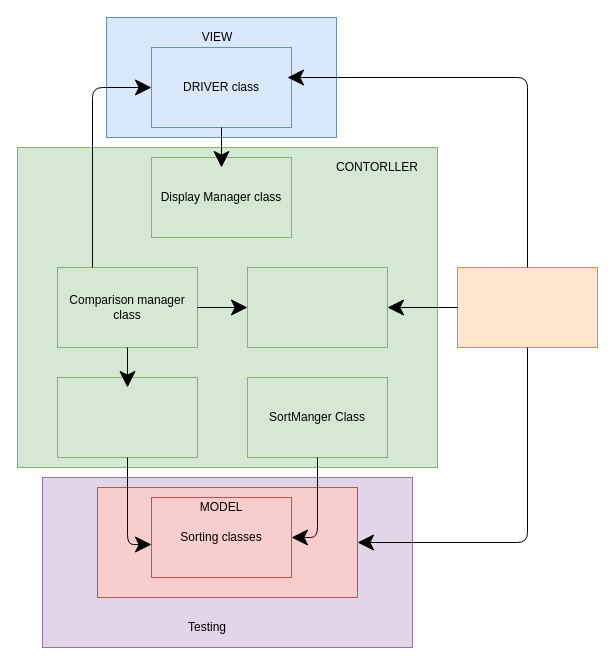
Some shapes in this 615 by 665 pixel diagram are drawn without their labels. Each missing label, with the centre of its shape:
"ArrayGen class" belongs at point 317,307.
"Logging manager" belongs at point 527,307.
"SortFactory Class" belongs at point 127,417.
